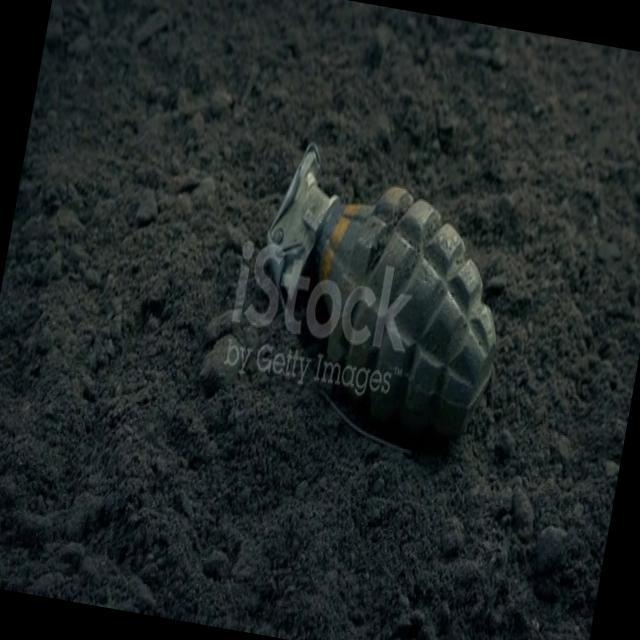grenade: (226, 122, 533, 474)
